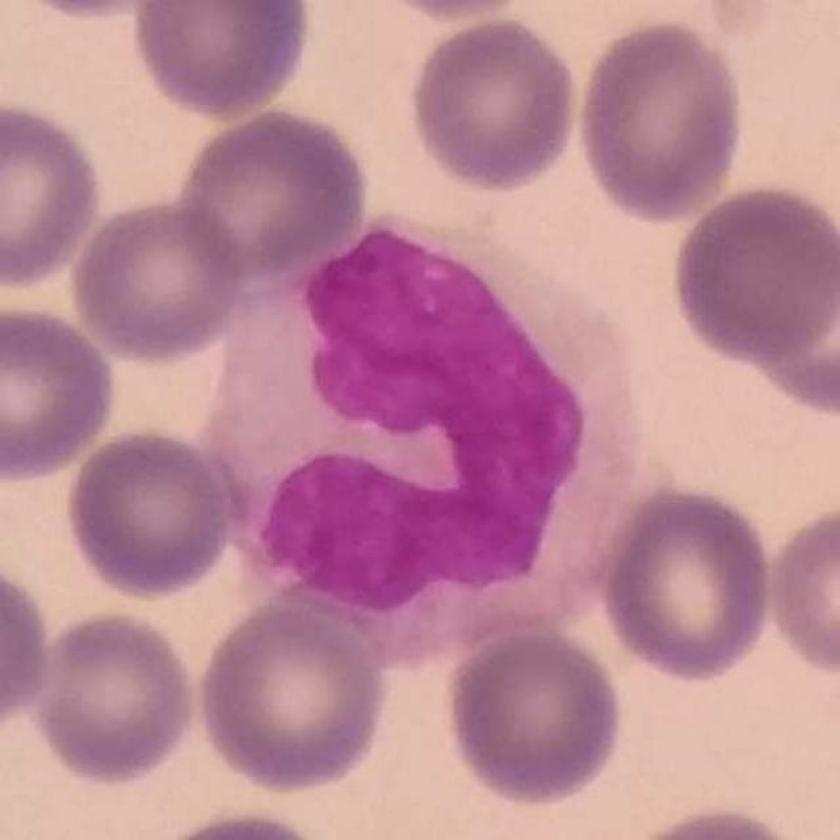monocyte: (214, 199, 661, 655)
